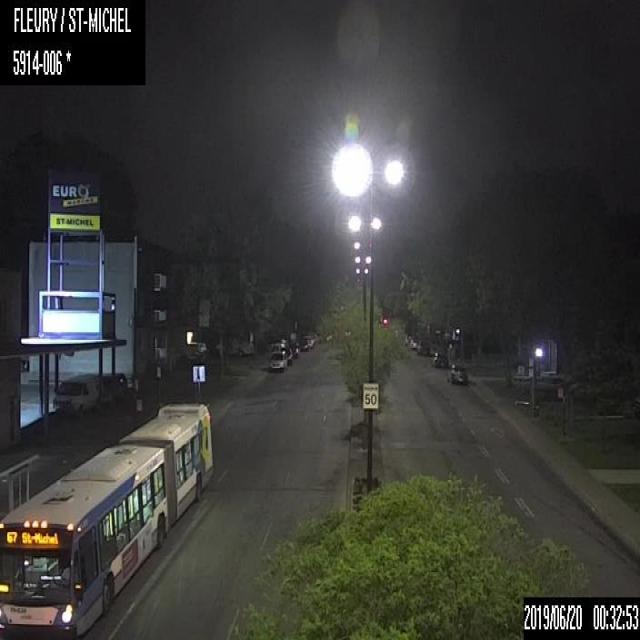bus: (0, 397, 215, 639)
vehicle: (50, 371, 104, 410), (266, 350, 287, 375), (448, 361, 469, 383), (430, 350, 450, 367), (416, 338, 432, 356), (282, 345, 294, 363), (298, 336, 311, 352)
